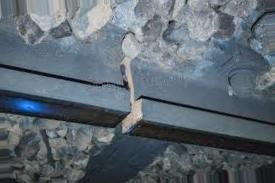tracks_fault: (111, 37, 151, 146), (94, 69, 135, 104)
